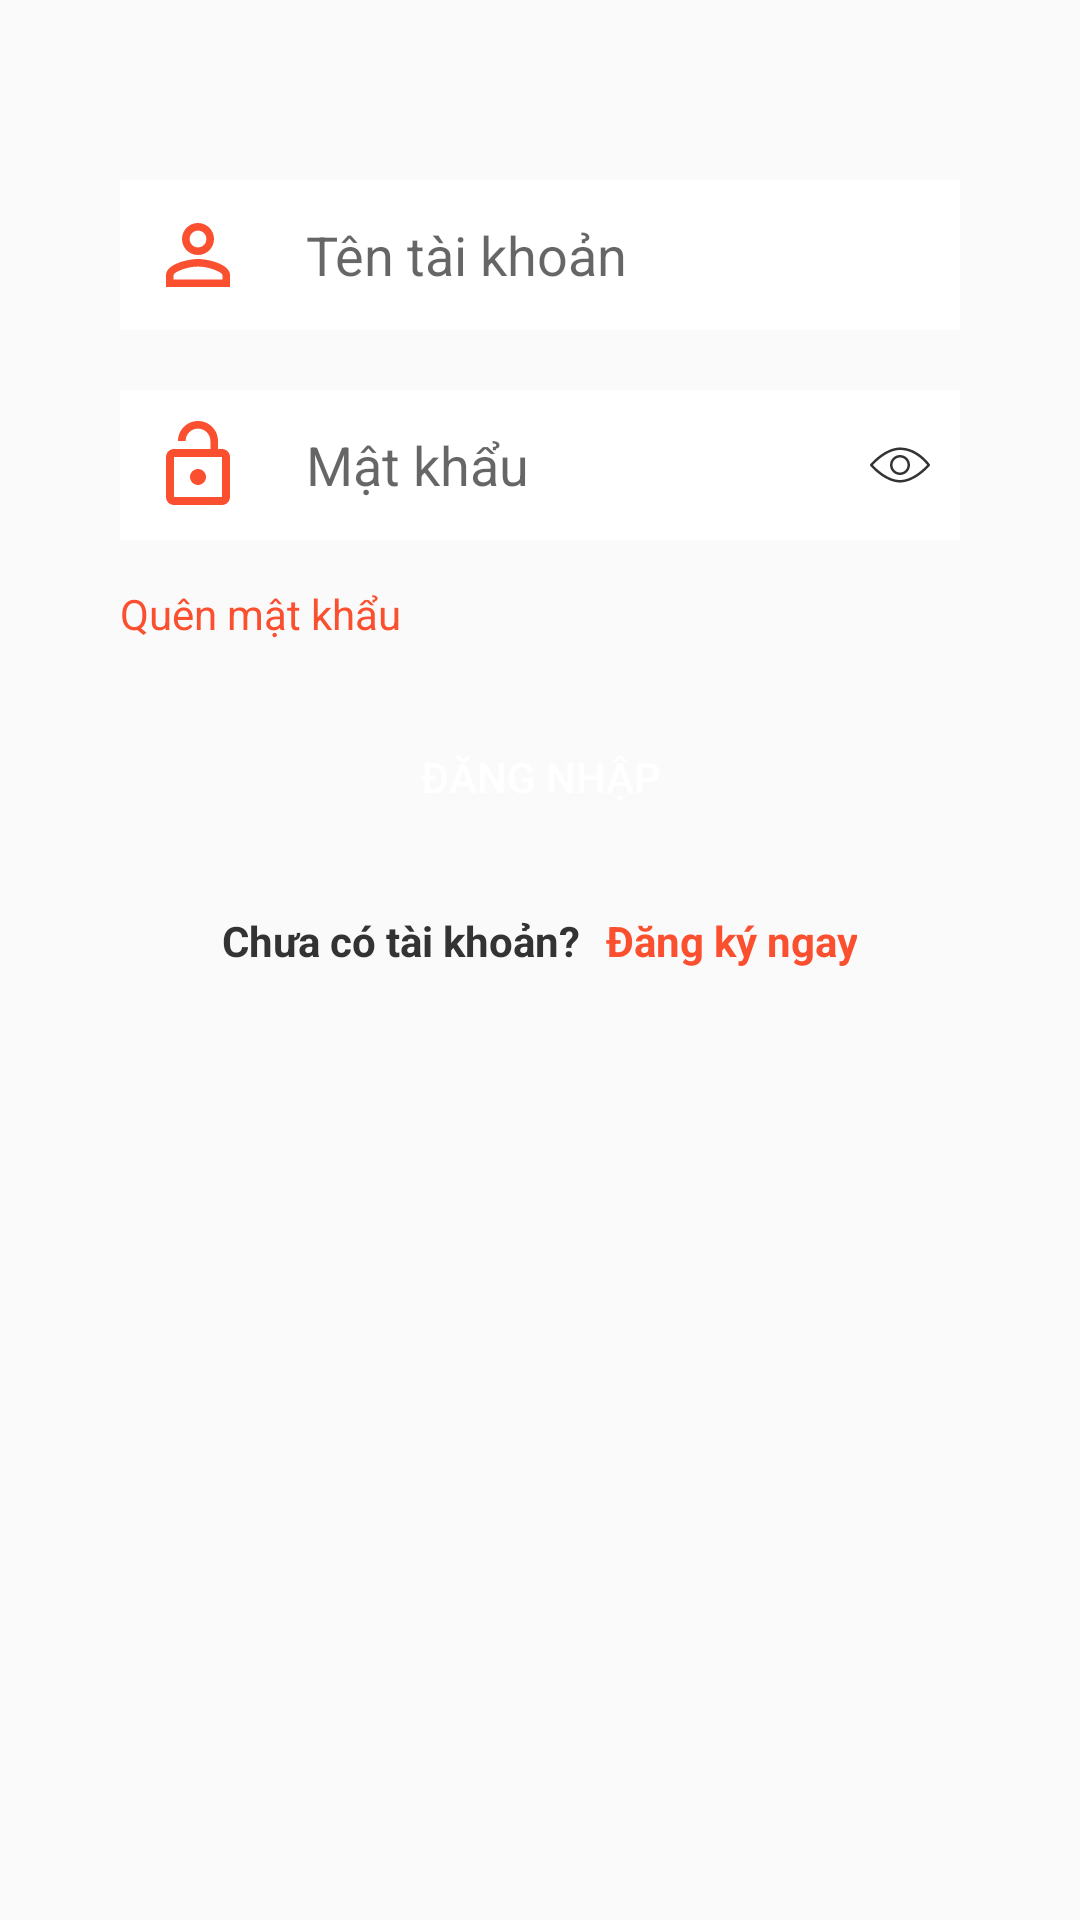

Icon bounding boxes for this 1080*1920 phone screenshot, format box=[x1, y1, x2, y2]:
eye: box=[870, 447, 930, 483]
open: box=[166, 421, 230, 505]
user: box=[166, 223, 230, 287]
